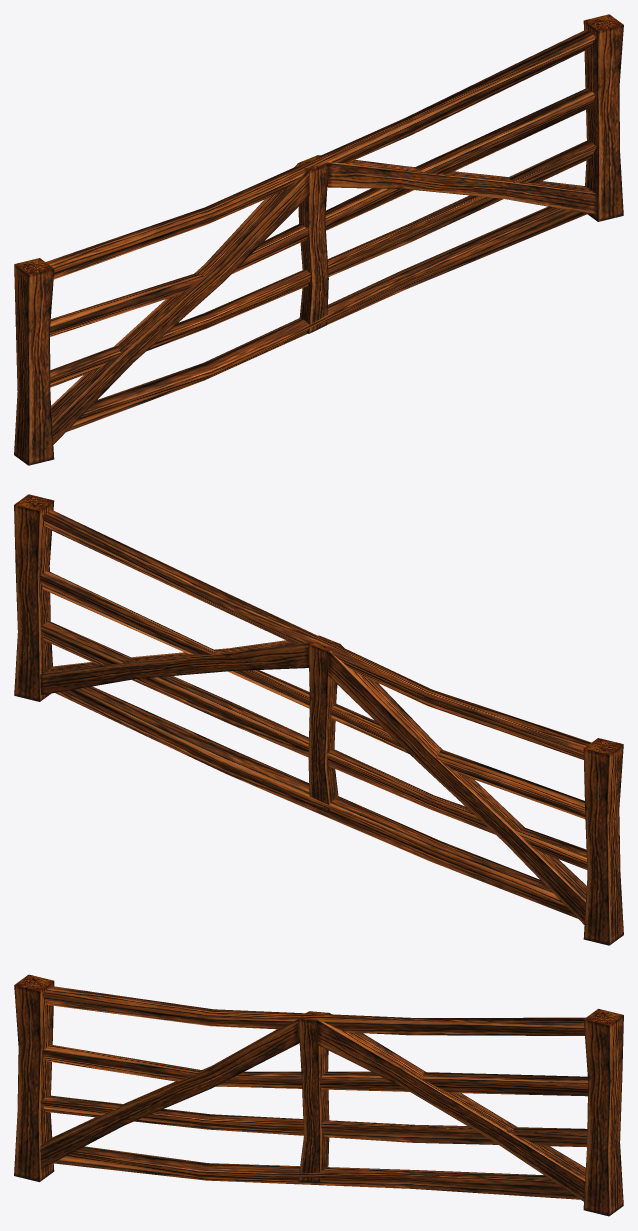
The model's file is INST_HTOWN_FENCEBRNGT10DEG_ANI.fbx.
The picture shows the model from 3 angles, top to bottom: view 1: azimuth 30°, elevation 25°; view 2: azimuth 150°, elevation 25°; view 3: azimuth 330°, elevation 25°; orthographic projection.
Visible parts, largest first — view 1: INST_HTOWN_FENCEBRNGT10DEG_ANI; view 2: INST_HTOWN_FENCEBRNGT10DEG_ANI; view 3: INST_HTOWN_FENCEBRNGT10DEG_ANI.
Part boxes in pixels (x1,y1,x2,y2): INST_HTOWN_FENCEBRNGT10DEG_ANI: (14,14,623,465); INST_HTOWN_FENCEBRNGT10DEG_ANI: (14,494,623,945); INST_HTOWN_FENCEBRNGT10DEG_ANI: (14,974,623,1216).
Size of the model in its own units: 31501 by 14944 by 1464.
Materials: 2 (2 with a texture image).
